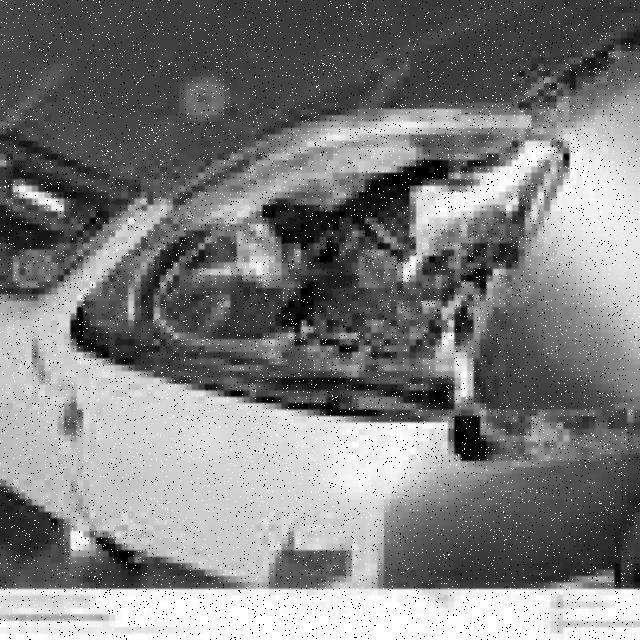Headlight-damage: (64, 71, 582, 442)
